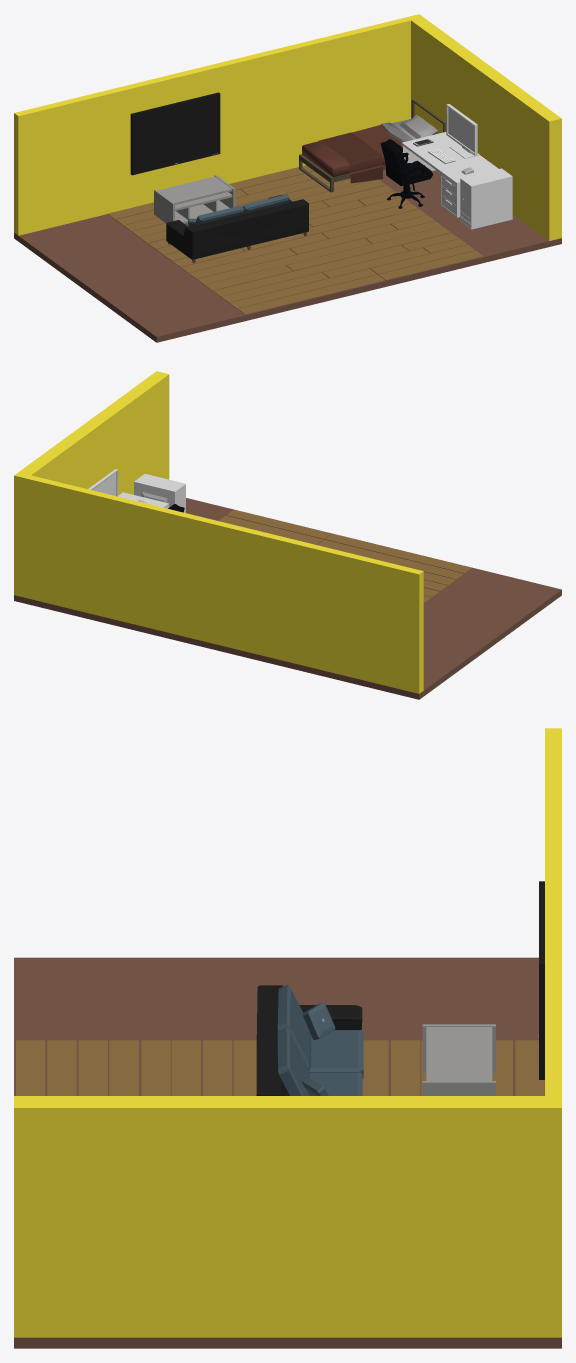
Rendered from main.glb.
The picture shows the model from 3 angles, top to bottom: view 1: azimuth 30°, elevation 25°; view 2: azimuth 150°, elevation 25°; view 3: azimuth 270°, elevation 25°; orthographic projection. The views are drawn at different scales.
Visible parts, largest first — view 1: Plane, Cube.024, Node, Cube_Cube.001, Bed_Single, Computer.001, Desk, Shelf_Small2, ExecutiveChair1, Monitor; view 2: Plane, Cube.024, Computer.001, Monitor; view 3: Plane, Cube.024, Node, Shelf_Small2, Cube_Cube.001.
Boxes of the visible parts, x1,y1,x2,y2 form: Plane: (14, 14, 561, 342); Cube.024: (107, 165, 483, 314); Node: (166, 194, 308, 263); Cube_Cube.001: (130, 92, 220, 175); Bed_Single: (299, 99, 445, 192); Computer.001: (460, 168, 512, 229); Desk: (401, 132, 498, 217); Shelf_Small2: (154, 175, 235, 223); ExecutiveChair1: (380, 139, 432, 208); Monitor: (446, 104, 479, 158); Plane: (14, 371, 561, 699); Cube.024: (219, 509, 471, 603); Computer.001: (134, 474, 185, 512); Monitor: (88, 469, 118, 496); Plane: (14, 728, 561, 1348); Cube.024: (16, 1040, 544, 1095); Node: (256, 984, 363, 1095); Shelf_Small2: (422, 1024, 495, 1095); Cube_Cube.001: (538, 881, 544, 1079).
Size of the model in its own units: 127 by 37.56 by 77.45.
